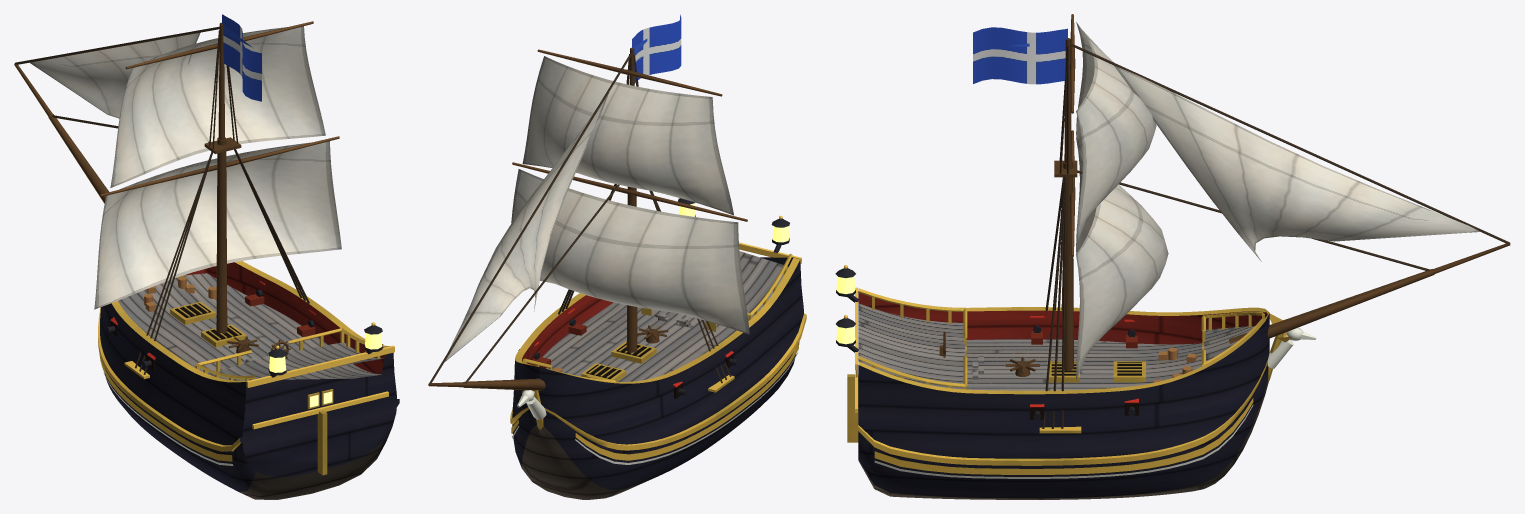
File: enemy_sloop.glb
The picture shows the model from 3 angles, left to right: view 1: azimuth 30°, elevation 25°; view 2: azimuth 150°, elevation 25°; view 3: azimuth 270°, elevation 25°; orthographic projection. The views are drawn at different scales.
Visible parts, largest first — view 1: Hull, Sail0_0, Sail0_1, Rigging, Jib, Flag, Guns0; view 2: Hull, Sail0_0, Sail0_1, Jib, Rigging, Flag, Guns0; view 3: Hull, Jib, Rigging, Sail0_0, Sail0_1, Flag.
Boxes of the visible parts, bbox=[...] form: Hull: bbox=[98, 261, 399, 499]; Sail0_0: bbox=[94, 141, 341, 309]; Sail0_1: bbox=[110, 26, 325, 187]; Rigging: bbox=[14, 21, 339, 374]; Jib: bbox=[30, 32, 200, 118]; Flag: bbox=[222, 14, 261, 101]; Guns0: bbox=[105, 289, 315, 367]; Hull: bbox=[510, 198, 806, 499]; Sail0_0: bbox=[511, 169, 749, 334]; Sail0_1: bbox=[522, 56, 733, 215]; Jib: bbox=[445, 93, 608, 361]; Rigging: bbox=[428, 38, 747, 390]; Flag: bbox=[632, 14, 681, 83]; Guns0: bbox=[518, 319, 738, 395]; Hull: bbox=[835, 265, 1316, 499]; Jib: bbox=[1114, 65, 1480, 261]; Rigging: bbox=[1007, 14, 1510, 428]; Sail0_0: bbox=[1076, 138, 1168, 379]; Sail0_1: bbox=[1076, 22, 1156, 245]; Flag: bbox=[973, 27, 1067, 84].
Size of the model in its own units: 1.34 by 2.17 by 2.95.
Materials: 22 (8 with a texture image).
